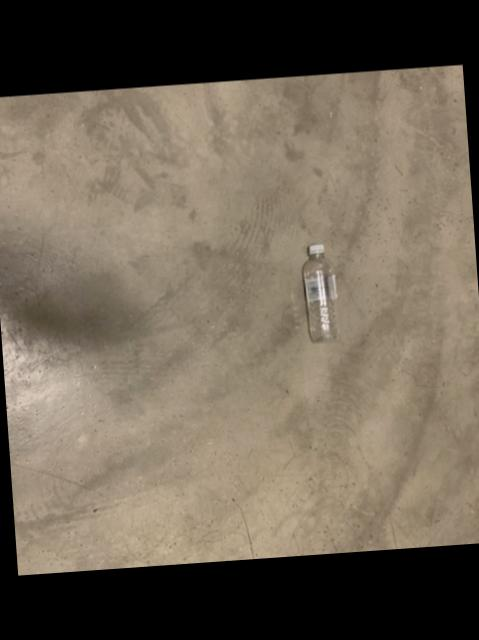plastic: (300, 243, 334, 341)
